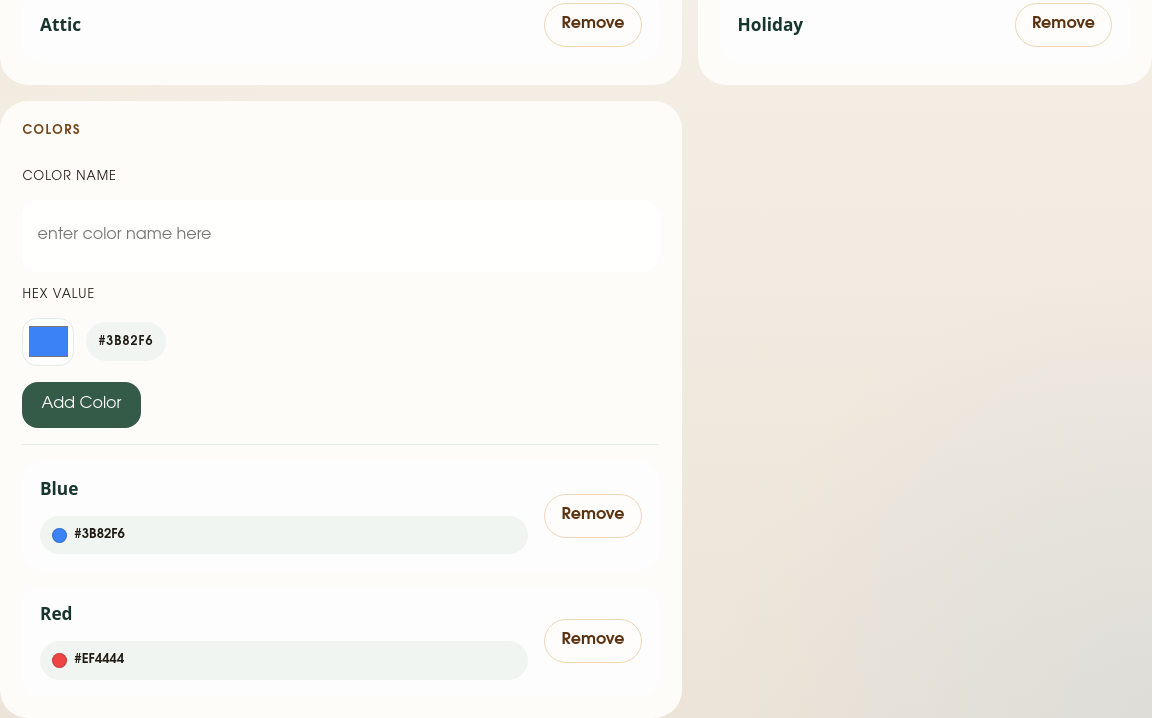
Test: rooms management route › removes a color from the list
(page scrolled)
Expected: the text "Blue" is shown, [40, 477, 78, 500]
Click the button "Remove" in the row of "Blue" at (593, 516), box [544, 494, 642, 538]
(page scrolled)
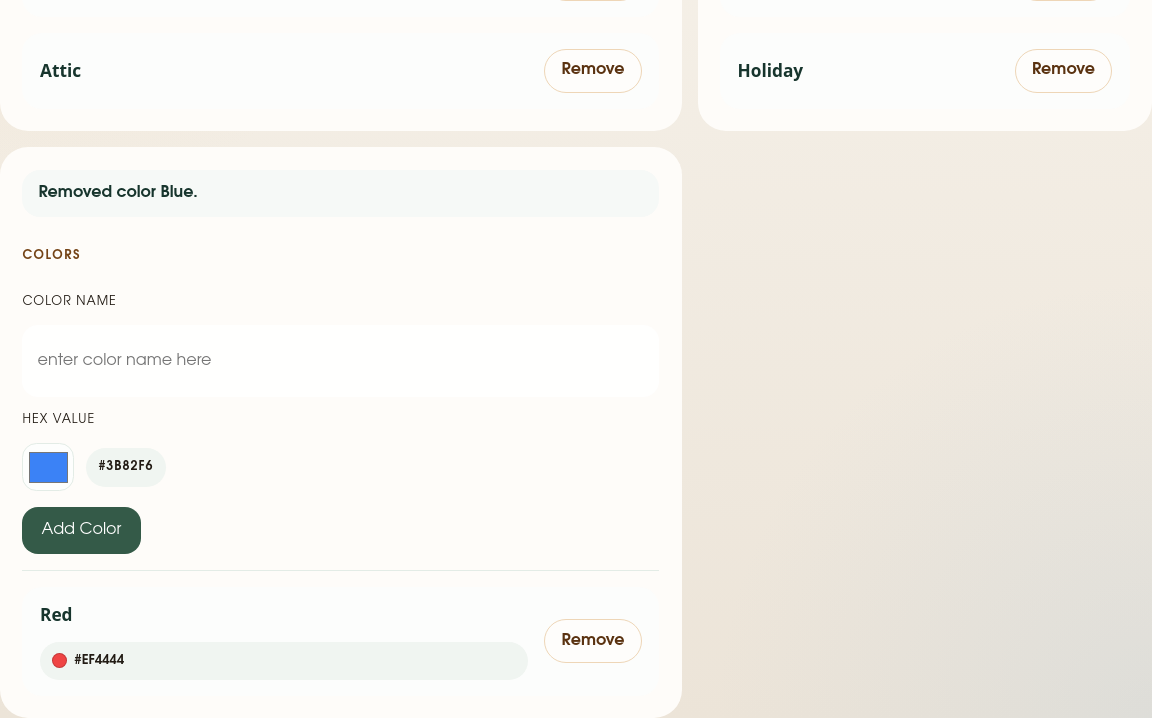
Now the text "Removed color Blue." is shown, box [22, 170, 659, 217]
